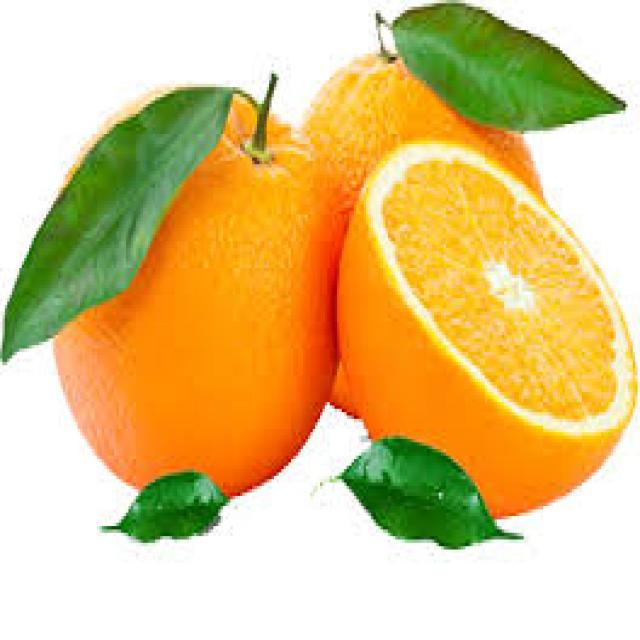orange: (45, 85, 344, 500)
